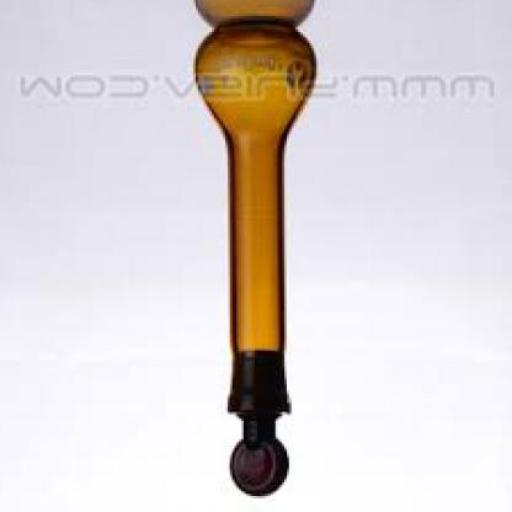glass: (198, 23, 316, 496)
